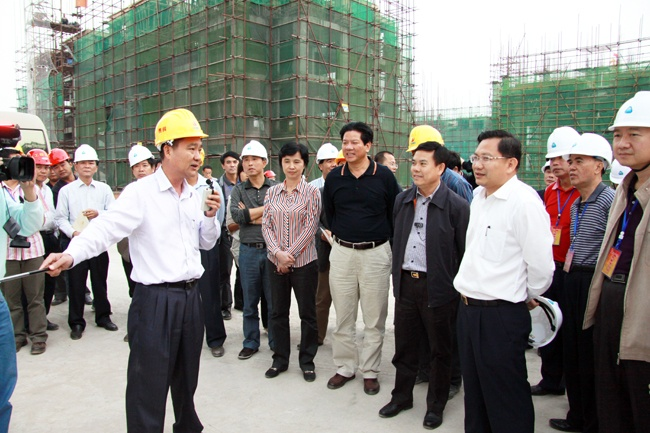none: (467, 130, 523, 186), (408, 141, 446, 185), (337, 121, 374, 164), (278, 140, 308, 179), (373, 149, 398, 175), (218, 150, 239, 177), (201, 165, 213, 177)
red: (24, 148, 49, 184), (48, 148, 73, 179)
white: (612, 92, 650, 175), (565, 132, 612, 186), (545, 123, 578, 178), (238, 140, 268, 178), (71, 140, 99, 179), (126, 144, 153, 178), (313, 142, 338, 176), (540, 159, 556, 186)
yellow: (152, 107, 205, 177), (405, 122, 445, 153)
